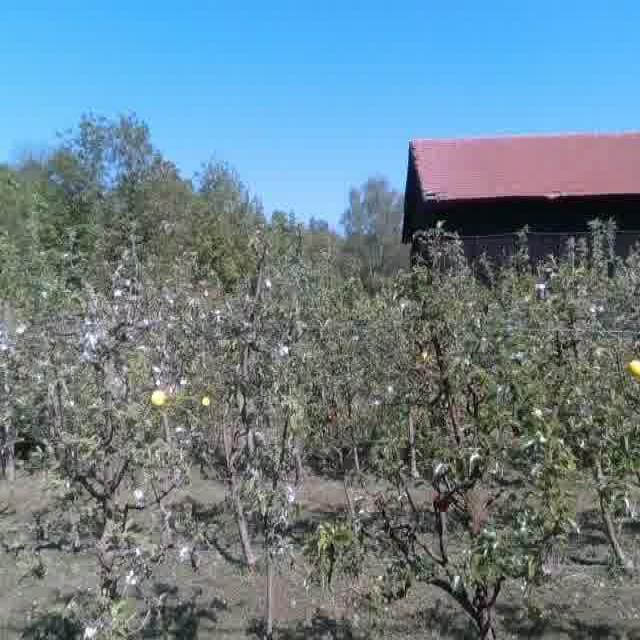yellow: (619, 352, 640, 380), (149, 388, 167, 408), (201, 396, 212, 408)
